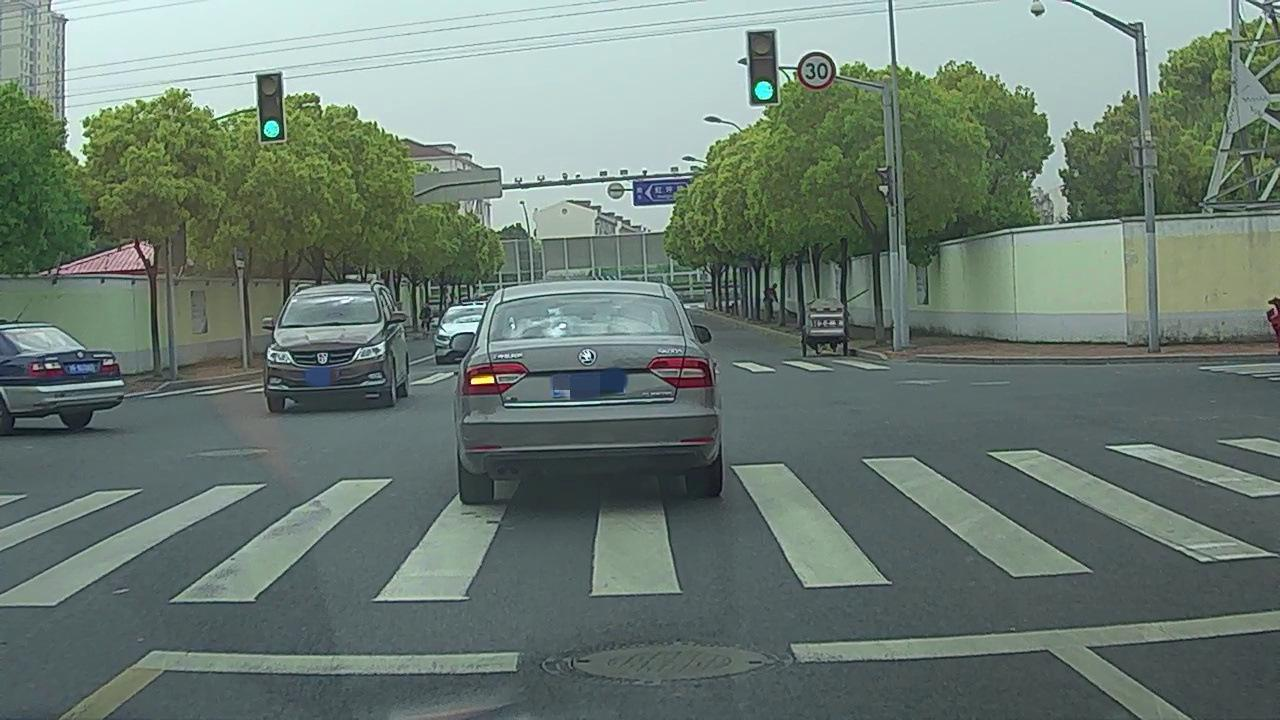traffic_light: (749, 30, 776, 103), (255, 74, 284, 140)
